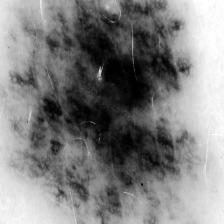Benign Marking or Mole: (4, 0, 199, 224)
